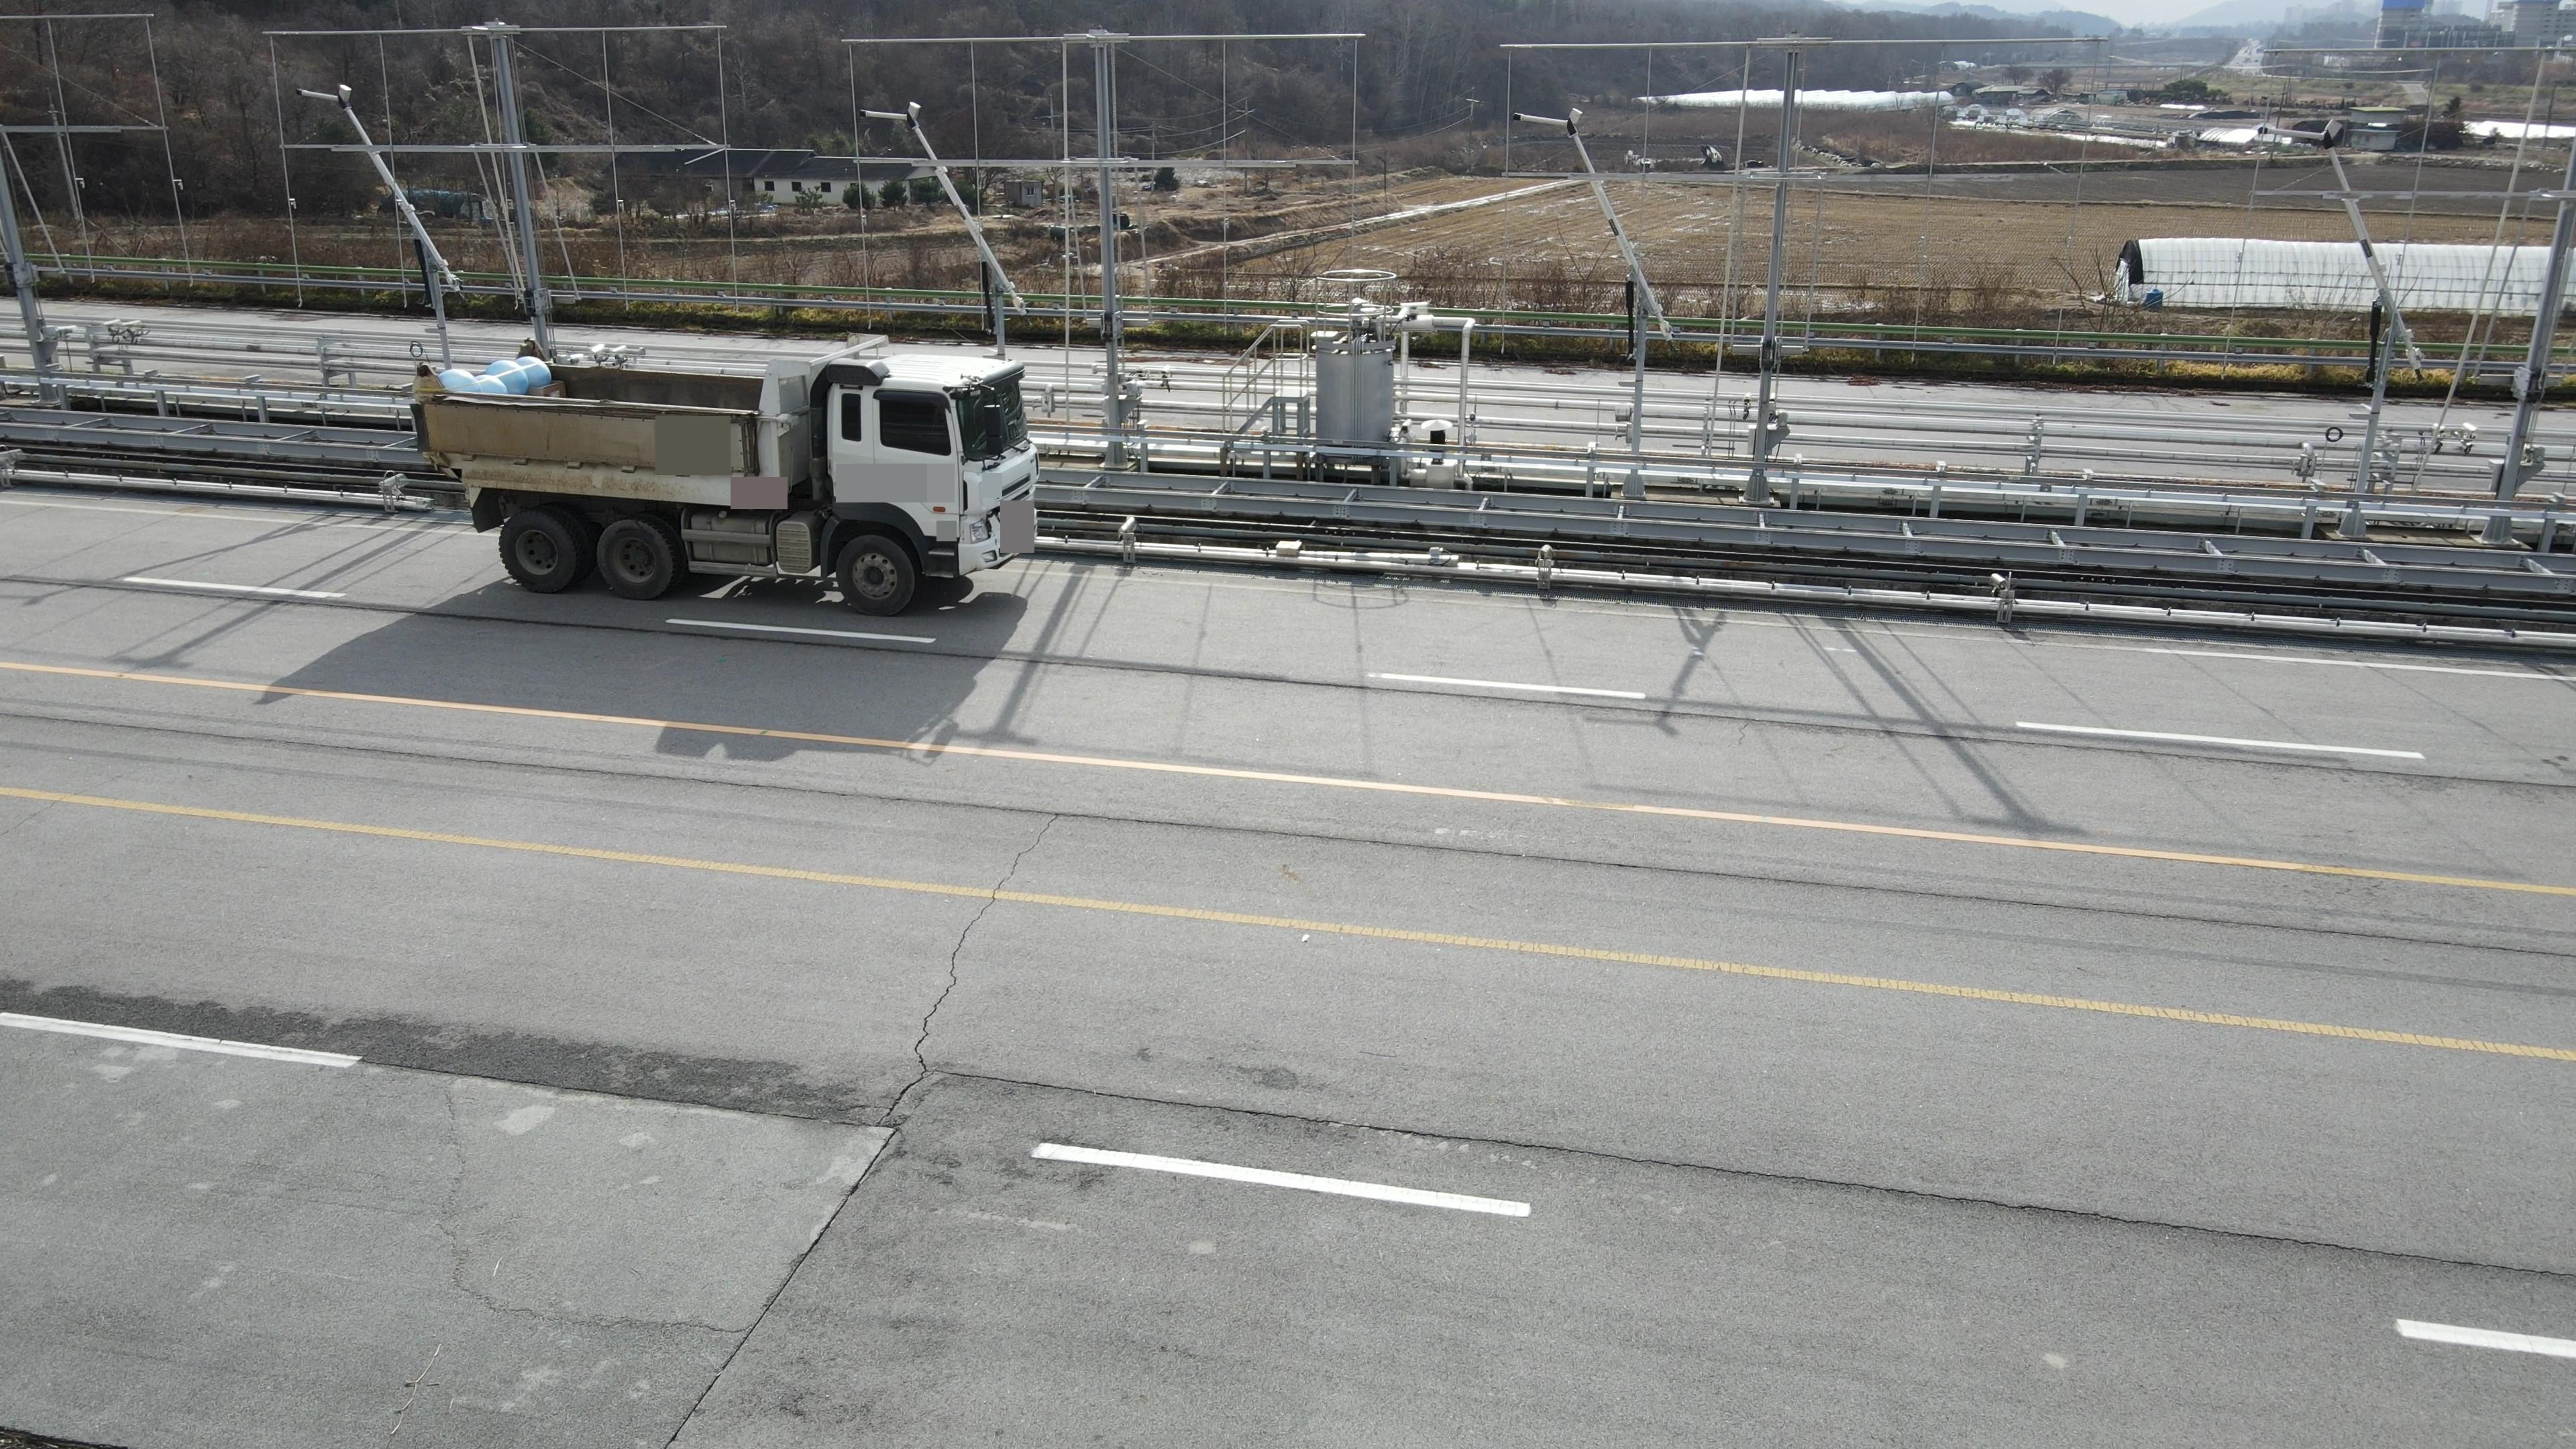불법차량: (410, 333, 1040, 614)
